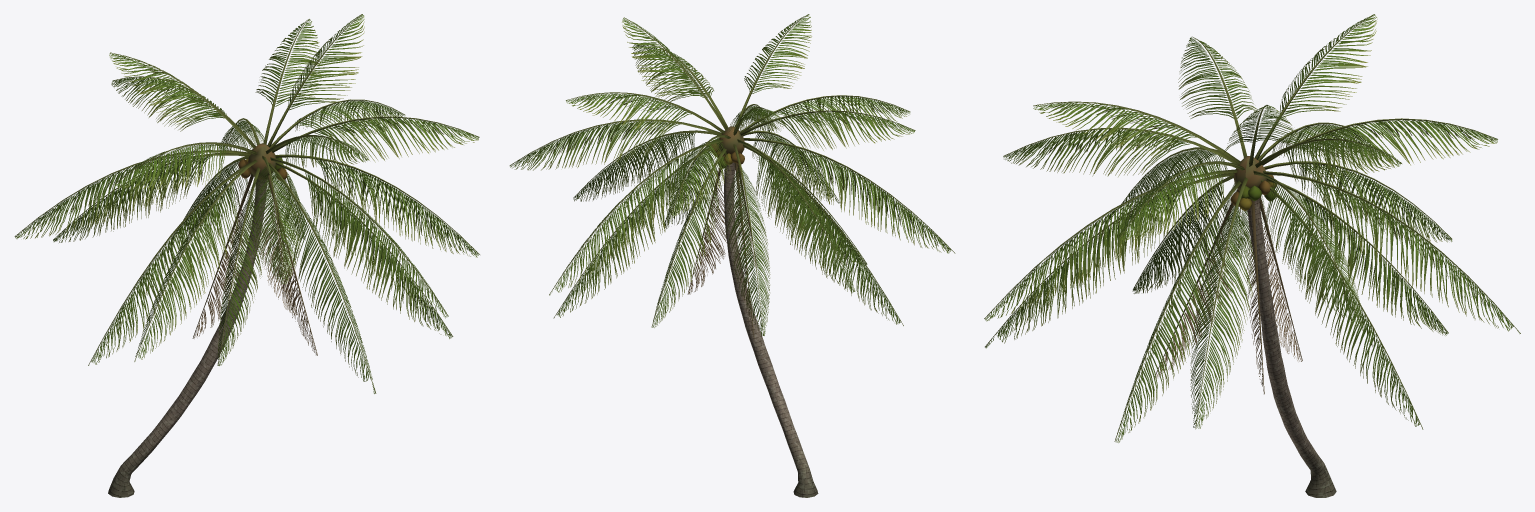
The model's file is palm_b.glb.
3 views of the same model, side by side, from view 1: azimuth 30°, elevation 25°; view 2: azimuth 150°, elevation 25°; view 3: azimuth 270°, elevation 25° (orthographic). The views are drawn at different scales.
Visible parts, largest first — view 1: palm_b_fronds, palm_b_misc, palm_b_trunk; view 2: palm_b_fronds, palm_b_misc, palm_b_trunk; view 3: palm_b_fronds, palm_b_misc, palm_b_trunk.
Boxes of the visible parts, x1=… form: palm_b_fronds: x1=15, y1=14, x2=479, y2=393; palm_b_misc: x1=14, y1=14, x2=479, y2=393; palm_b_trunk: x1=108, y1=179, x2=267, y2=497; palm_b_fronds: x1=510, y1=14, x2=951, y2=336; palm_b_misc: x1=509, y1=14, x2=955, y2=338; palm_b_trunk: x1=724, y1=162, x2=818, y2=497; palm_b_fronds: x1=985, y1=14, x2=1519, y2=442; palm_b_misc: x1=984, y1=14, x2=1520, y2=441; palm_b_trunk: x1=1247, y1=198, x2=1336, y2=497.
Size of the model in its own units: 9.12 by 10 by 9.55.
Materials: 3 (2 with a texture image).
